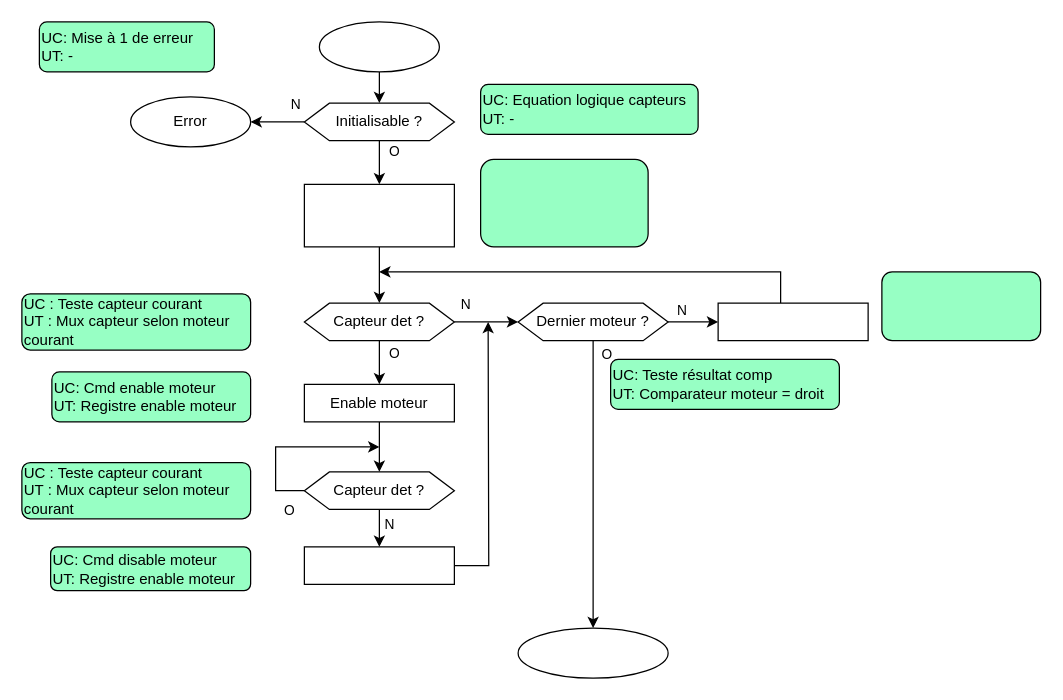
Image size: 1063x700. Some labels were removed from this diagram. The shapes that lost their labels are listed below. From the top down, each one's centre as x and y in pixels, then its label:
the point at 378,46: Start
the point at 378,215: Vitesse minimale Direction anti-horaire Premier moteur
the point at 563,202: UC: Cmd init registres UT: Registre vitesse Registre direction Registre moteur
the point at 792,321: Prochain moteur
the point at 961,306: UC: Cmd incr moteur UT: Registre moteur incrémentation
the point at 378,565: Disable moteur
the point at 592,652: End
